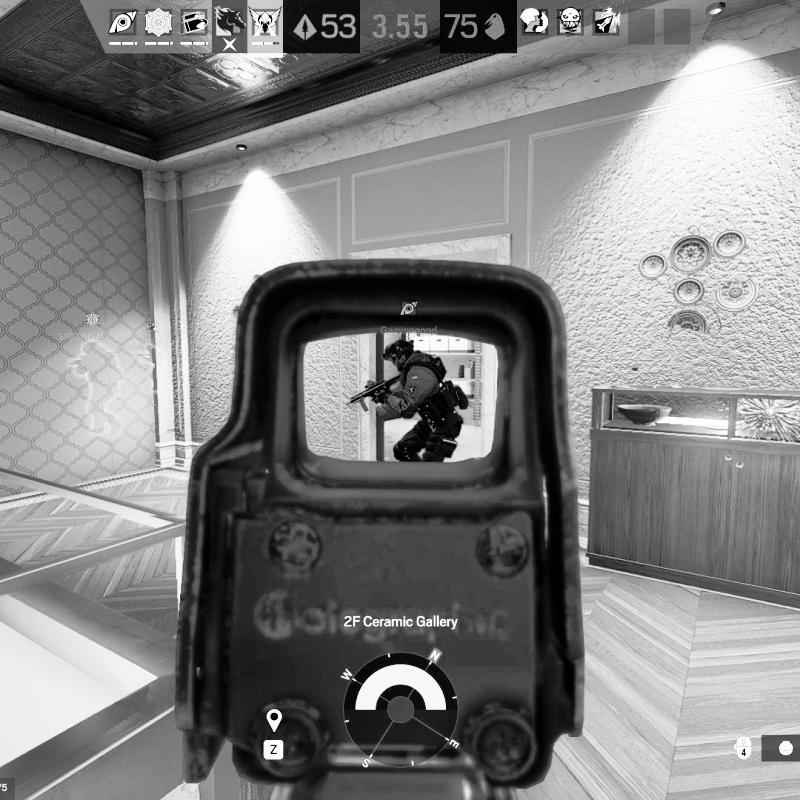Character: (345, 335, 472, 466)
Friend_label: (377, 299, 440, 338), (58, 312, 115, 342), (129, 320, 176, 346)
Head: (382, 336, 417, 369)
